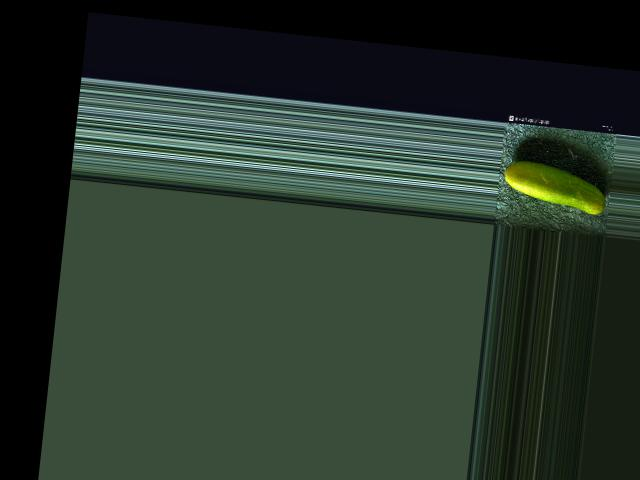cucumber: (501, 158, 609, 215)
